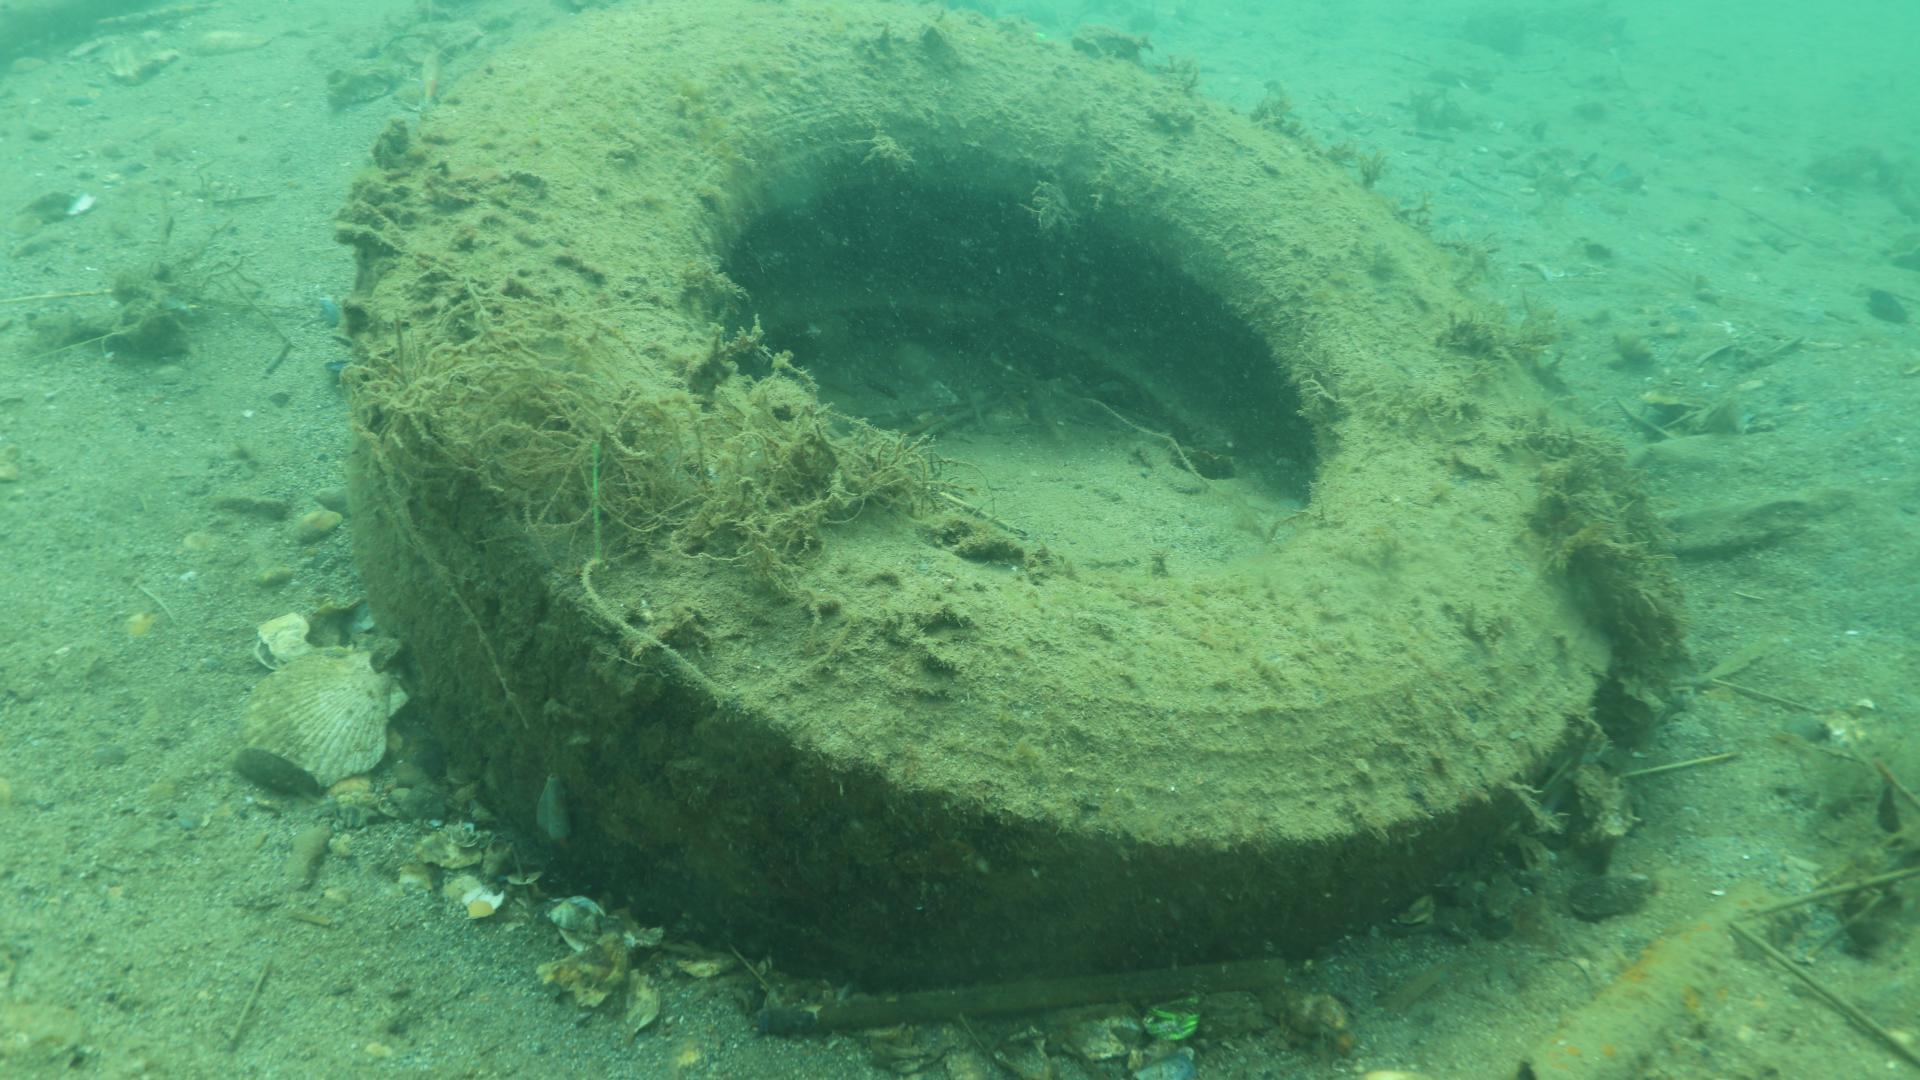tire: (342, 0, 1615, 996)
